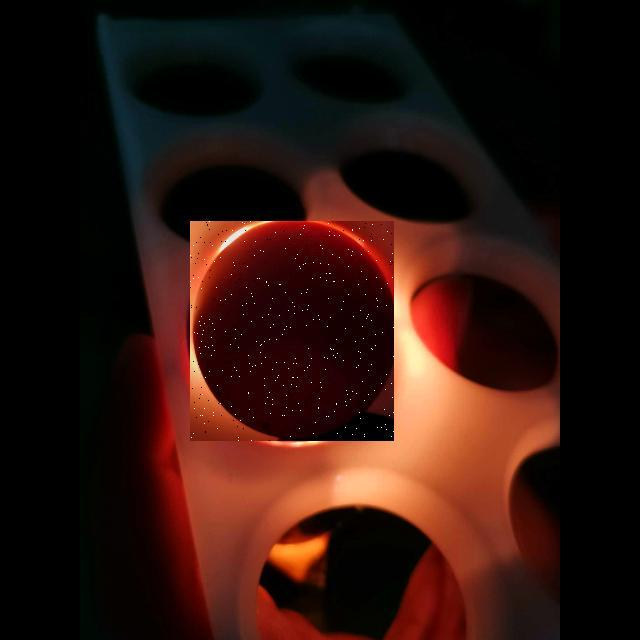B - Fair: (190, 221, 394, 441)
